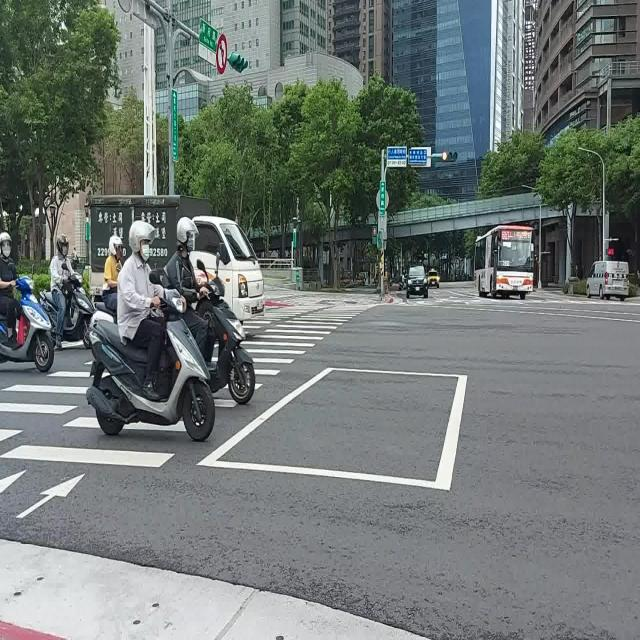bus: (475, 224, 534, 299)
car: (586, 258, 629, 302), (406, 263, 428, 299), (427, 268, 441, 287)
crosswalk: (242, 302, 377, 391), (0, 414, 178, 469), (0, 359, 92, 443), (244, 303, 331, 334)
motocycle: (83, 285, 220, 448), (208, 276, 258, 406), (0, 273, 57, 375), (38, 270, 96, 349)
trunk: (90, 196, 265, 320)
